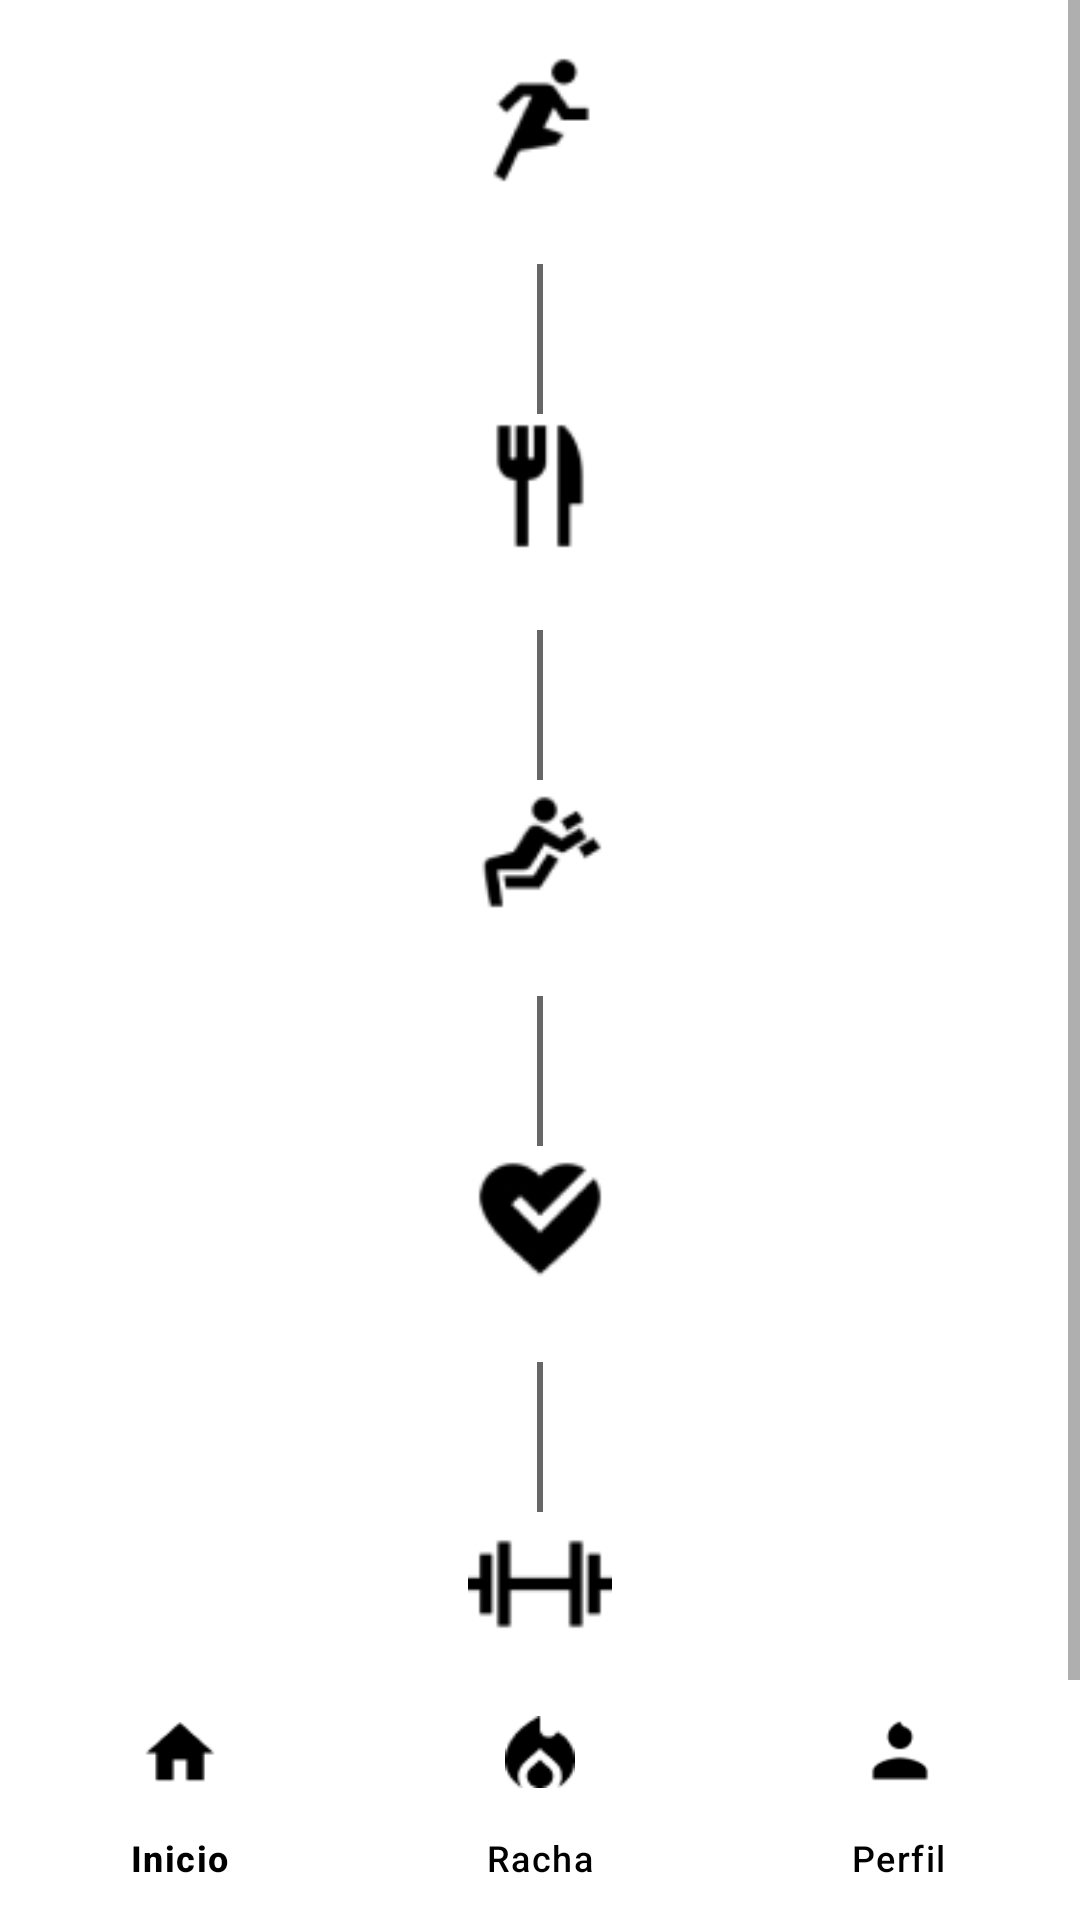

Named icons in this screenshot (1080px×1920px) and their centers, (x=x, y=y):
Alimentación: (x=540, y=486)
Correr: (x=541, y=120)
Fuerza: (x=540, y=1584)
heart: (x=540, y=1218)
